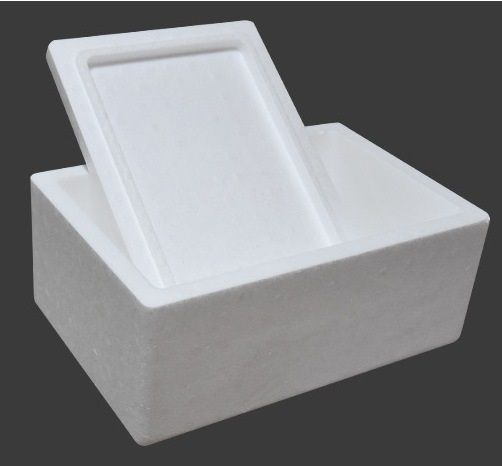泡沫箱: (31, 22, 488, 444)
